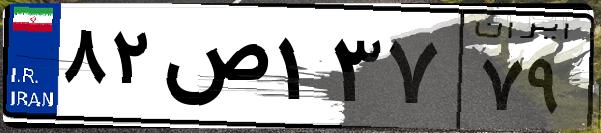1: (270, 28, 330, 110)
2: (110, 28, 158, 98)
3: (330, 28, 385, 110)
7: (385, 28, 445, 110), (475, 38, 525, 113)
8: (57, 26, 110, 100)
9: (525, 38, 570, 115)
ص: (158, 20, 270, 120)
